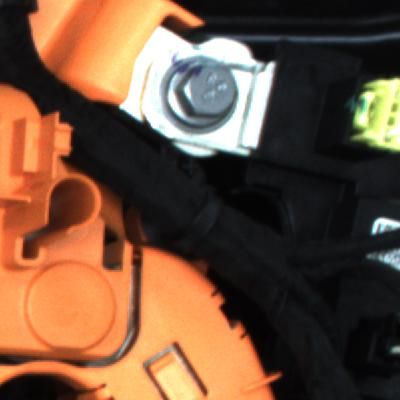nut_b: (155, 53, 259, 146)
